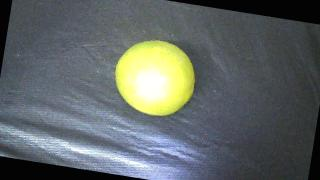LOCAL: (110, 35, 201, 121)
